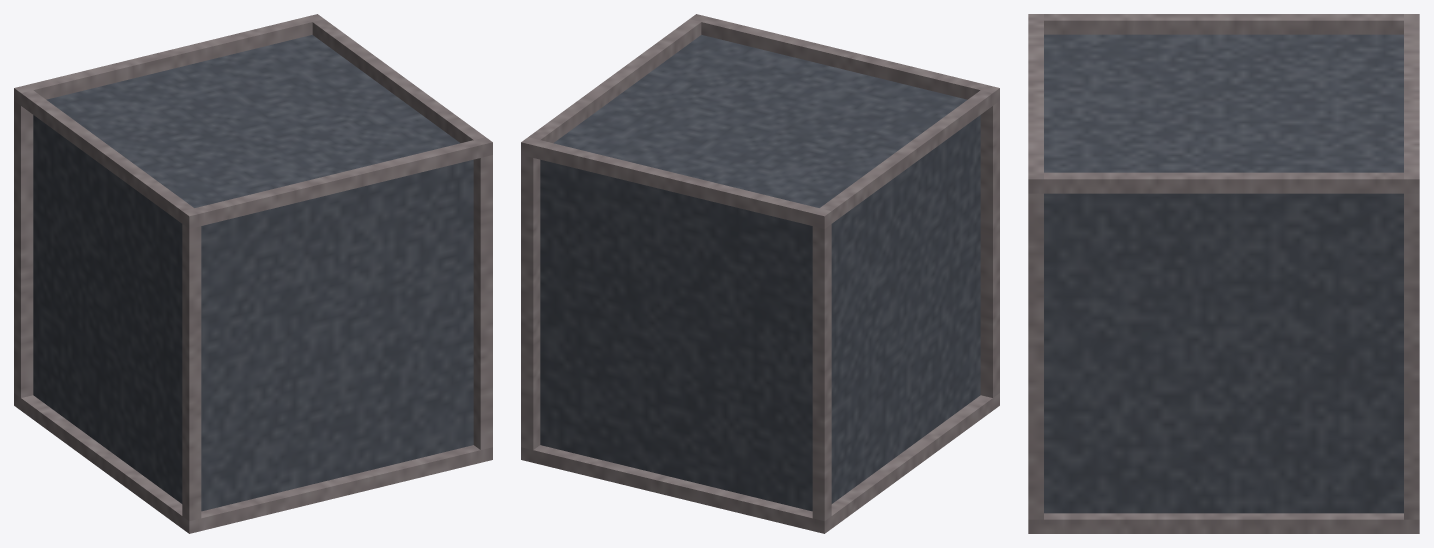
File: MediumObject_Medium_Crate.fbx
3 views of the same model, side by side, from view 1: azimuth 30°, elevation 25°; view 2: azimuth 150°, elevation 25°; view 3: azimuth 270°, elevation 25° (orthographic). The views are drawn at different scales.
Visible parts, largest first — view 1: Medium_Crate; view 2: Medium_Crate; view 3: Medium_Crate.
Part boxes in pixels (x1,y1,x2,y2): Medium_Crate: [14, 14, 492, 533]; Medium_Crate: [521, 14, 999, 533]; Medium_Crate: [1028, 14, 1419, 533].
Size of the model in its own units: 50 by 50 by 50.
